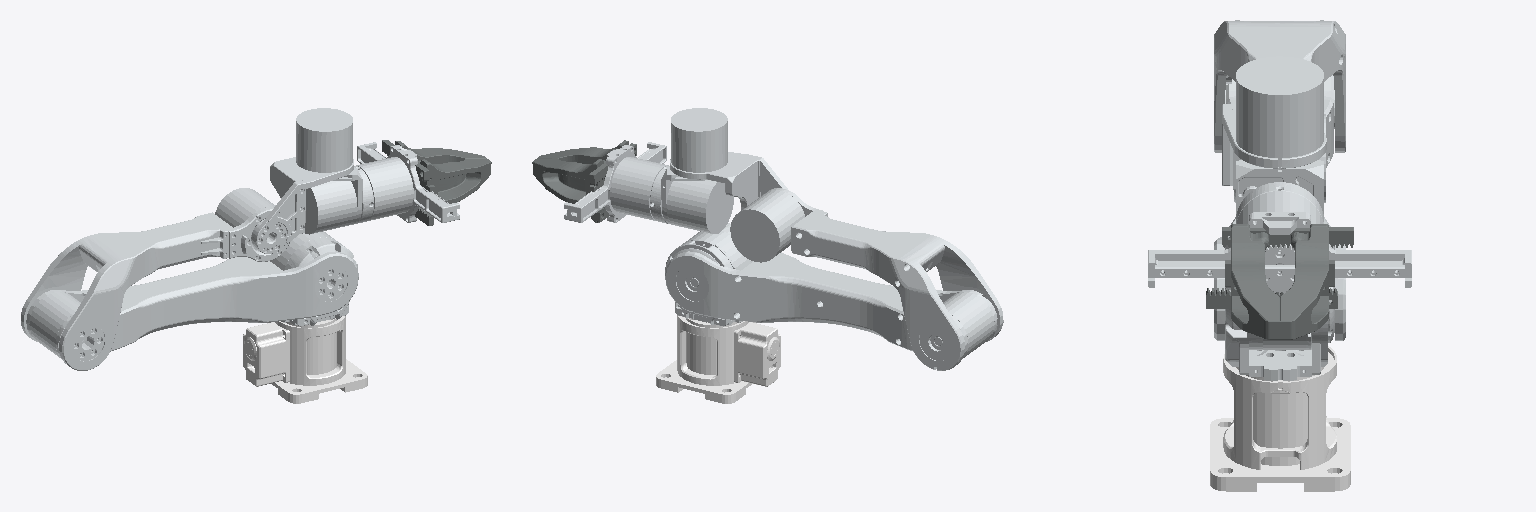
robot.urdf — y1_description:
<?xml version="1.0" encoding="utf-8"?>
<!-- This URDF was automatically created by SolidWorks to URDF Exporter! Originally created by [author] ([email redacted]) 
     Commit Version: 1.6.0-4-g7f85cfe  Build Version: 1.6.7995.38578
     For more information, please see http://wiki.ros.org/sw_urdf_exporter -->
<robot
  name="y1_description">
  <link name="world" />
  <joint name="fixed_base_joint" type="fixed">
      <parent link="world" />
      <child link="base_link" />
  </joint>
  <link
    name="base_link">
    <inertial>
      <origin
        xyz="-0.00594885814133117 1.74815920781197E-07 0.0348007672592276"
        rpy="0 0 0" />
      <mass
        value="0.710539568297307" />
      <inertia
        ixx="0.000443657464008301"
        ixy="6.25566859542462E-08"
        ixz="9.59870028750112E-07"
        iyy="0.000441077995533288"
        iyz="-9.9725911250569E-09"
        izz="0.000508211347165629" />
    </inertial>
    <visual>
      <origin
        xyz="0 0 0"
        rpy="0 0 0" />
      <geometry>
        <mesh
          filename="./meshes2/base_link.STL" />
      </geometry>
      <material
        name="">
        <color
          rgba="1 1 1 1" />
      </material>
    </visual>
    <collision>
      <origin
        xyz="0 0 0"
        rpy="0 0 0" />
      <geometry>
        <mesh
          filename="./meshes2/base_link.STL" />
      </geometry>
    </collision>
  </link>
  <link
    name="link1">
    <inertial>
      <origin
        xyz="0.000681166801672072 -0.000462329144553357 0.045774892481422"
        rpy="0 0 0" />
      <mass
        value="0.465086237348566" />
      <inertia
        ixx="0.000229226849289421"
        ixy="6.51443398285823E-09"
        ixz="4.13823216869872E-08"
        iyy="0.000349392243512686"
        iyz="4.09909327547663E-06"
        izz="0.000228246849171451" />
    </inertial>
    <visual>
      <origin
        xyz="0 0 0"
        rpy="0 0 0" />
      <geometry>
        <mesh
          filename="./meshes2/link1.STL" />
      </geometry>
      <material
        name="">
        <color
          rgba="0.898039215686275 0.917647058823529 0.929411764705882 1" />
      </material>
    </visual>
    <collision>
      <origin
        xyz="0 0 0"
        rpy="0 0 0" />
      <geometry>
        <mesh
          filename="./meshes2/link1.STL" />
      </geometry>
    </collision>
  </link>
  <joint
    name="joint1"
    type="revolute">
    <origin
      xyz="0 0 0.06675"
      rpy="0 0 0" />
    <parent
      link="base_link" />
    <child
      link="link1" />
    <axis
      xyz="0 0 1" />
    <limit
      lower="-2.79"
      upper="2.79"
      effort="30"
      velocity="5" />
  </joint>
  <link
    name="link2">
    <inertial>
      <origin
        xyz="-0.188833638735521 -0.00103696741234357 -0.000652233492404069"
        rpy="0 0 0" />
      <mass
        value="1.00848298285328" />
      <inertia
        ixx="0.000410794334923653"
        ixy="-8.40217264906029E-05"
        ixz="8.54409117485555E-06"
        iyy="0.00604170923770196"
        iyz="-2.44381206367219E-07"
        izz="0.00611040782192728" />
    </inertial>
    <visual>
      <origin
        xyz="0 0 0"
        rpy="0 0 0" />
      <geometry>
        <mesh
          filename="./meshes2/link2.STL" />
      </geometry>
      <material
        name="">
        <color
          rgba="0.898039215686275 0.917647058823529 0.929411764705882 1" />
      </material>
    </visual>
    <collision>
      <origin
        xyz="0 0 0"
        rpy="0 0 0" />
      <geometry>
        <mesh
          filename="./meshes2/link2.STL" />
      </geometry>
    </collision>
  </link>
  <joint
    name="joint2"
    type="revolute">
    <origin
      xyz="0.00075 0 0.055"
      rpy="1.5707963267949 0 0" />
    <parent
      link="link1" />
    <child
      link="link2" />
    <axis
      xyz="0 0 1" />
    <limit
      lower="-3.14"
      upper="0"
      effort="100"
      velocity="5" />
  </joint>
  <link
    name="link3">
    <inertial>
      <origin
        xyz="0.13303236944819 0.053001605443094 0.000290607418881382"
        rpy="0 0 0" />
      <mass
        value="0.839664048562432" />
      <inertia
        ixx="0.000602602150085638"
        ixy="0.000475019647951162"
        ixz="4.78547835289741E-06"
        iyy="0.00179992027506354"
        iyz="2.90178948383024E-06"
        izz="0.00208247690030194" />
    </inertial>
    <visual>
      <origin
        xyz="0 0 0"
        rpy="0 0 0" />
      <geometry>
        <mesh
          filename="./meshes2/link3.STL" />
      </geometry>
      <material
        name="">
        <color
          rgba="0.898039215686275 0.917647058823529 0.929411764705882 1" />
      </material>
    </visual>
    <collision>
      <origin
        xyz="0 0 0"
        rpy="0 0 0" />
      <geometry>
        <mesh
          filename="./meshes2/link3.STL" />
      </geometry>
    </collision>
  </link>
  <joint
    name="joint3"
    type="revolute">
    <origin
      xyz="-0.28 0 0"
      rpy="0 0 0" />
    <parent
      link="link2" />
    <child
      link="link3" />
    <axis
      xyz="0 0 1" />
    <limit
      lower="0"
      upper="3.14"
      effort="30"
      velocity="5" />
  </joint>
  <link
    name="link4">
    <inertial>
      <origin
        xyz="0.0676553454608046 0.0601804606336394 0.00493164046961679"
        rpy="0 0 0" />
      <mass
        value="0.455192807281481" />
      <inertia
        ixx="0.000175905701610462"
        ixy="2.09881793084199E-05"
        ixz="-5.70112881813548E-06"
        iyy="0.00021185619989683"
        iyz="-5.28404240592637E-06"
        izz="0.000207766320080551" />
    </inertial>
    <visual>
      <origin
        xyz="0 0 0"
        rpy="0 0 0" />
      <geometry>
        <mesh
          filename="./meshes2/link4.STL" />
      </geometry>
      <material
        name="">
        <color
          rgba="0.898039215686275 0.917647058823529 0.929411764705882 1" />
      </material>
    </visual>
    <collision>
      <origin
        xyz="0 0 0"
        rpy="0 0 0" />
      <geometry>
        <mesh
          filename="./meshes2/link4.STL" />
      </geometry>
    </collision>
  </link>
  <joint
    name="joint4"
    type="revolute">
    <origin
      xyz="0.215000000191949 0.062999999344955 0"
      rpy="0 0 0" />
    <parent
      link="link3" />
    <child
      link="link4" />
    <axis
      xyz="0 0 1" />
    <limit
      lower="-2.145"
      upper="1.413"
      effort="10"
      velocity="20" />
  </joint>
  <link
    name="link5">
    <inertial>
      <origin
        xyz="0.00184718198779937 1.71555473194154E-05 0.0401130289643779"
        rpy="0 0 0" />
      <mass
        value="0.37350857138172" />
      <inertia
        ixx="0.000164420724368751"
        ixy="9.01113714088931E-08"
        ixz="8.61462336637628E-06"
        iyy="0.000150227049138266"
        iyz="7.29000317164614E-07"
        izz="0.000141162755688236" />
    </inertial>
    <visual>
      <origin
        xyz="0 0 0"
        rpy="0 0 0" />
      <geometry>
        <mesh
          filename="./meshes2/link5.STL" />
      </geometry>
      <material
        name="">
        <color
          rgba="0.898039215686275 0.917647058823529 0.929411764705882 1" />
      </material>
    </visual>
    <collision>
      <origin
        xyz="0 0 0"
        rpy="0 0 0" />
      <geometry>
        <mesh
          filename="./meshes2/link5.STL" />
      </geometry>
    </collision>
  </link>
  <joint
    name="joint5"
    type="revolute">
    <origin
      xyz="0.0808173961212753 0.0507202965702747 0.000249997832943334"
      rpy="1.5707963267949 0 0" />
    <parent
      link="link4" />
    <child
      link="link5" />
    <axis
      xyz="0 0 1" />
    <limit
      lower="-1.482"
      upper="1.482"
      effort="10"
      velocity="20" />
  </joint>
  <link
    name="link6">
    <inertial>
      <origin
        xyz="-7.49599778135379E-06 -0.00013005136298912 0.0107241456109823"
        rpy="0 0 0" />
      <mass
        value="0.0710864913917462" />
      <inertia
        ixx="1.6401347920533E-05"
        ixy="-1.49553772726508E-07"
        ixz="2.14734308108841E-07"
        iyy="1.63719812629545E-05"
        iyz="1.0859635466048E-08"
        izz="3.09205907254189E-05" />
    </inertial>
    <visual>
      <origin
        xyz="0 0 0"
        rpy="0 0 0" />
      <geometry>
        <mesh
          filename="./meshes2/link6.STL" />
      </geometry>
      <material
        name="">
        <color
          rgba="0.898039215686275 0.917647058823529 0.929411764705882 1" />
      </material>
    </visual>
    <collision>
      <origin
        xyz="0 0 0"
        rpy="0 0 0" />
      <geometry>
        <mesh
          filename="./meshes2/link6.STL" />
      </geometry>
    </collision>
  </link>
  <joint
    name="joint6"
    type="revolute">
    <origin
      xyz="0.0227968089529965 0 0.0443684065693784"
      rpy="0 1.5707963267949 0" />
    <parent
      link="link5" />
    <child
      link="link6" />
    <axis
      xyz="0 0 1" />
    <limit
      lower="-2.529"
      upper="2.529"
      effort="10"
      velocity="20" />
  </joint>
  <link
    name="gripper_base">
    <inertial>
      <origin
        xyz="1.8116022072745E-07 -6.59899547614519E-06 -0.0236534167124916"
        rpy="0 0 0" />
      <mass
        value="0.472677133888304" />
      <inertia
        ixx="0.000352068319247928"
        ixy="-2.46417635975675E-08"
        ixz="-1.78183230772186E-10"
        iyy="0.000135507470952368"
        iyz="1.36393205161364E-08"
        izz="0.000378993699632994" />
    </inertial>
    <visual>
      <origin
        xyz="0 0 0"
        rpy="0 0 0" />
      <geometry>
        <mesh
          filename="./meshes2/gripper_base.STL" />
      </geometry>
      <material
        name="">
        <color
          rgba="0.898039215686275 0.917647058823529 0.929411764705882 1" />
      </material>
    </visual>
    <collision>
      <origin
        xyz="0 0 0"
        rpy="0 0 0" />
      <geometry>
        <mesh
          filename="./meshes2/gripper_base.STL" />
      </geometry>
    </collision>
  </link>
  <joint
    name="gripper_base"
    type="fixed">
    <origin
      xyz="-0.00120627967358662 0 0.0757904010332325"
      rpy="0 -0.015914651654156 0" />
    <parent
      link="link6" />
    <child
      link="gripper_base" />
    <axis
      xyz="0 0 0" />
  </joint>

<link name="camera_mount">
    <visual>
      <origin xyz="0 0 0.08" rpy="0 0 0"/>
      <geometry>
        <mesh filename="./meshes2/camera_link.glb"/>
      </geometry>
    </visual>
  </link>
  <joint name="link6_to_camera_mount" type="fixed">
    <parent link="link6"/>
    <child link="camera_mount"/>
    <origin xyz="0 0 -0.077" rpy="0 0 -1.5708"/>
  </joint>
  <link name="camera">
    <visual>
      <origin xyz="0.014 -0.045 -0.03" rpy="0.1 0 -1.5707963267948966"/>
      <geometry>
        <mesh filename="./meshes2/camera.glb"/>
      </geometry>
    </visual>
  </link>
  <joint name="camera_joint" type="fixed">
    <parent link="camera_mount"/>
    <child link="camera"/>
    <origin xyz="0.045 0.09 0.115" rpy="0 -1.1116926535897932 -1.5707963267948966"/>
  </joint>


  <link
    name="link7">
    <inertial>
      <origin
        xyz="0.0136358557633384 -0.0101974363145318 0.0643753957399442"
        rpy="0 0 0" />
      <mass
        value="0.0941874462283945" />
      <inertia
        ixx="3.59554789171064E-05"
        ixy="-2.91912170987263E-07"
        ixz="4.58349488759558E-06"
        iyy="5.42304422063263E-05"
        iyz="-1.03838463761627E-07"
        izz="3.56193231141655E-05" />
    </inertial>
    <visual>
      <origin
        xyz="0 0 0"
        rpy="0 0 0" />
      <geometry>
        <mesh
          filename="./meshes2/link7.STL" />
      </geometry>
      <material
        name="">
        <color
          rgba="0.529411764705882 0.549019607843137 0.549019607843137 1" />
      </material>
    </visual>
    <collision>
      <origin
        xyz="0 0 0"
        rpy="0 0 0" />
      <geometry>
        <mesh
          filename="./meshes2/link7.STL" />
      </geometry>
    </collision>
  </link>

  <joint
    name="joint7"
    type="prismatic">
    <origin
      xyz="0 -0.072000000000001 0"
      rpy="-1.5707963267949 -1.55488167514075 0" />
    <parent
      link="gripper_base" />
    <child
      link="link7" />
    <axis
      xyz="0 0 -1" />
    <limit
      lower="0"
      upper="0.04"
      effort="10"
      velocity="20" />
  </joint>
  <link
    name="link8">
    <inertial>
      <origin
        xyz="0.0139530239502495 0.00976135676822211 -0.0643753952596965"
        rpy="0 0 0" />
      <mass
        value="0.0941874502574237" />
      <inertia
        ixx="3.59554275157291E-05"
        ixy="-2.90303096877524E-07"
        ixz="-4.58447764624841E-06"
        iyy="5.42304962234321E-05"
        iyz="4.20784875227686E-08"
        izz="3.56193259784968E-05" />
    </inertial>
    <visual>
      <origin
        xyz="0 0 0"
        rpy="0 0 0" />
      <geometry>
        <mesh
          filename="./meshes2/link8.STL" />
      </geometry>
      <material
        name="">
        <color
          rgba="0.529411764705882 0.549019607843137 0.549019607843137 1" />
      </material>
    </visual>
    <collision>
      <origin
        xyz="0 0 0"
        rpy="0 0 0" />
      <geometry>
        <mesh
          filename="./meshes2/link8.STL" />
      </geometry>
    </collision>
  </link>
  <joint
    name="joint8"
    type="prismatic">
    <origin
      xyz="0 0.072 0"
      rpy="-1.5708 -1.5549 0" />
    <parent
      link="gripper_base" />
    <child
      link="link8" />
    <axis
      xyz="0 0 1" />
    <mimic joint="joint7" multiplier="1.0" offset="0.0"/>
    <limit
      lower="0"
      upper="0.04"
      effort="10"
      velocity="20" />
  </joint>
</robot>

--- Render facts (derived) ---
Views: 3 orthographic renders of the robot side by side, from view 1: azimuth 30°, elevation 25°; view 2: azimuth 150°, elevation 25°; view 3: azimuth 270°, elevation 25°.
Model y1_description with 13 links and 12 joints (6 revolute, 2 prismatic, 4 fixed), rooted at world, posed all joints at 0.
Links seen in each view (by area): view 1: link2, link3, base_link, link4, gripper_base, link5, link8, link1, link7; view 2: link3, link2, base_link, link4, gripper_base, link5, link7, link1, link8; view 3: base_link, link4, gripper_base, link3, link8, link7, link1, link2, link5, link6.
Boxes of the visible links, x1,y1,x2,y2 form: link2: (26, 251, 358, 358); link3: (21, 188, 289, 370); base_link: (243, 316, 367, 403); link4: (251, 108, 353, 253); gripper_base: (356, 142, 459, 222); link5: (305, 167, 362, 234); link8: (382, 140, 491, 203); link1: (270, 231, 357, 326); link7: (395, 141, 486, 225); link3: (730, 188, 1003, 370); link2: (665, 251, 997, 358); base_link: (656, 315, 780, 403); link4: (670, 108, 787, 210); gripper_base: (564, 142, 668, 222); link5: (661, 167, 733, 233); link7: (532, 158, 608, 222); link1: (665, 223, 752, 326); link8: (537, 140, 636, 185); base_link: (1210, 346, 1350, 491); link4: (1222, 56, 1326, 189); gripper_base: (1148, 191, 1411, 294); link3: (1214, 20, 1345, 202); link8: (1222, 224, 1353, 339); link7: (1206, 224, 1337, 339); link1: (1225, 236, 1334, 380); link2: (1214, 75, 1345, 340); link5: (1236, 160, 1323, 213); link6: (1236, 182, 1323, 223).
Bounding box of the posed robot: 0.5142 × 0.17 × 0.2819 m (x, y, z).
Meshes: 12 distinct files referenced, 10 mesh visuals loaded (10 binary STL); not drawn: 1 (reference not matched to a file when rendering), 1 (file found but could not be loaded).